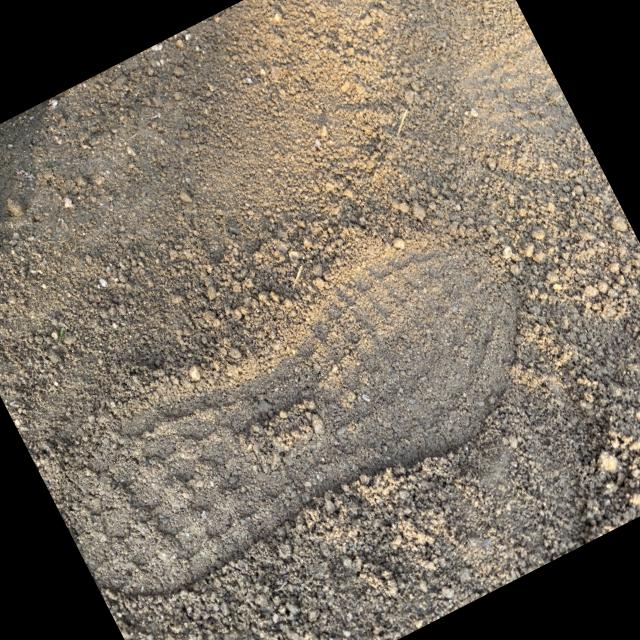human_footprint: (40, 156, 549, 614)
